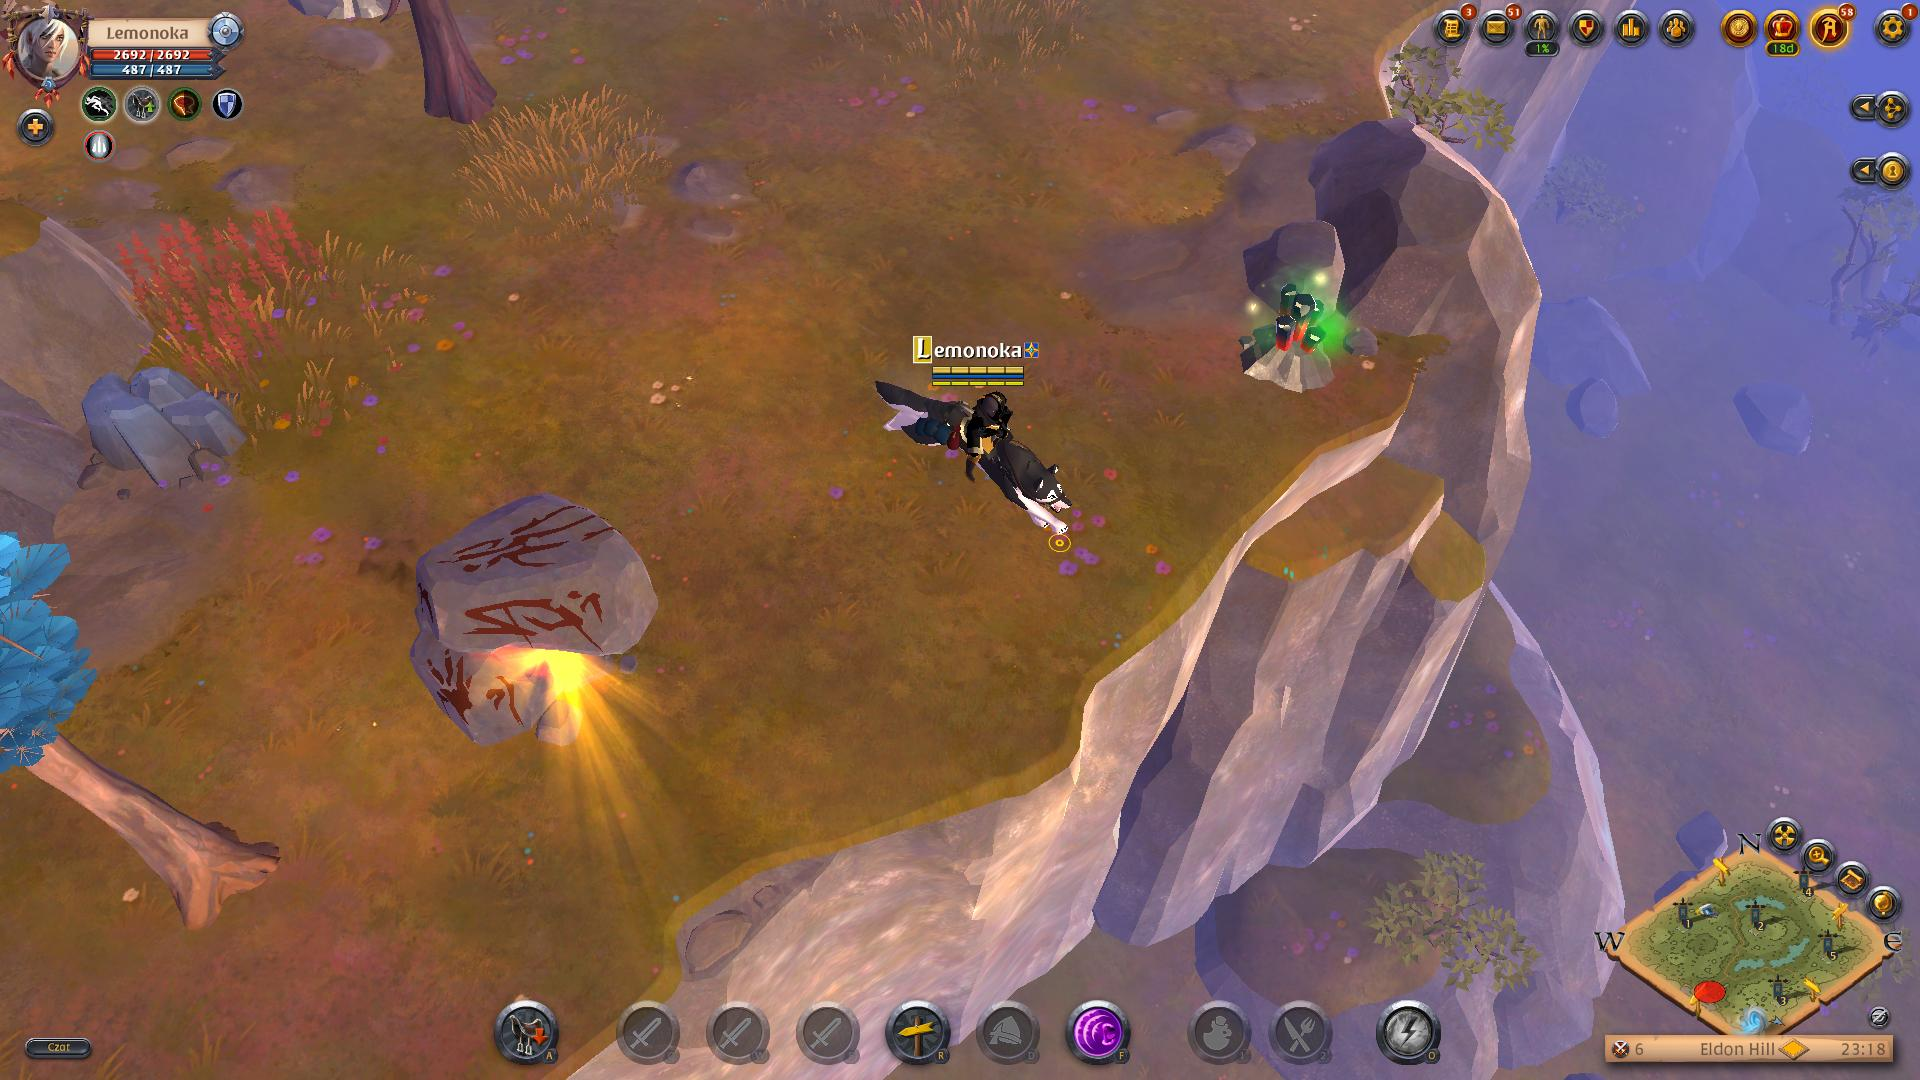ore tier 5: (1226, 280, 1338, 398)
rock tier 4: (67, 361, 253, 492)
